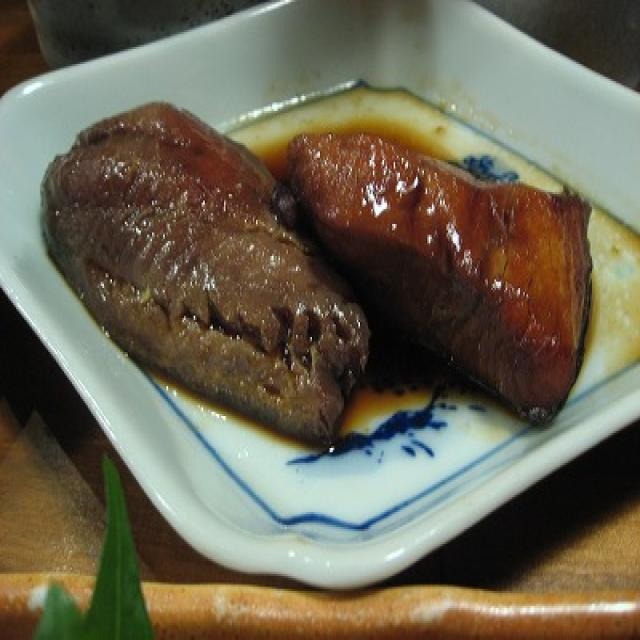熟制海鲜: (0, 113, 640, 640)
